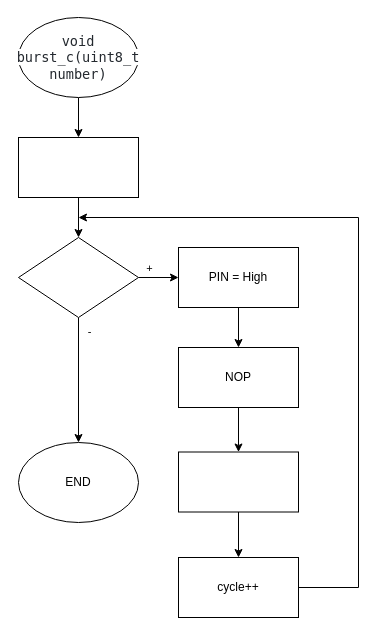
Some shapes in this 384 by 635 pixel diagram are drawn without their labels. The box of each missing label's shape, as (x1, y1, x2, y2) in pixels:
cycle <= number: (18, 236, 138, 318)
cycle = 0: (18, 136, 138, 198)
PIN = LOW: (178, 451, 298, 512)
